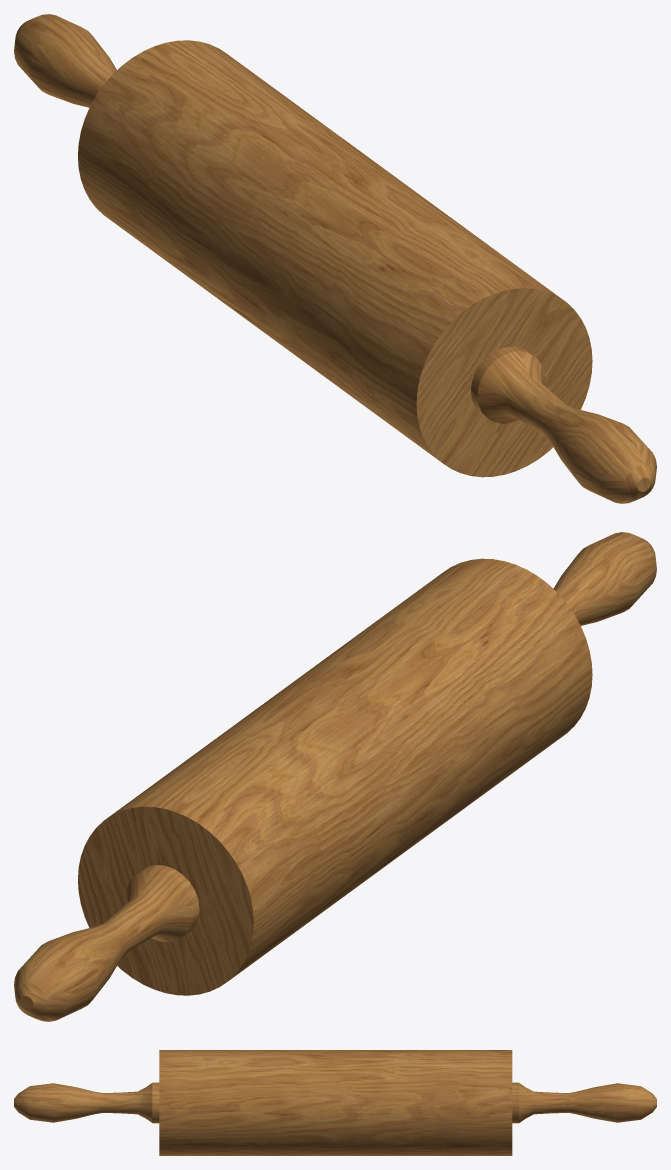
File: RollingPin.fbx
3 renders of one model, top to bottom at view 1: azimuth 30°, elevation 25°; view 2: azimuth 150°, elevation 25°; view 3: azimuth 270°, elevation 25°, orthographic. The views are drawn at different scales.
Parts seen in each view (by area): view 1: rolling_pin; view 2: rolling_pin; view 3: rolling_pin.
Part boxes in pixels (x1,y1,x2,y2): rolling_pin: [14, 14, 656, 503]; rolling_pin: [14, 532, 656, 1021]; rolling_pin: [14, 1050, 656, 1155].
Bounding box in the file's own units: 6000 × 6000 × 36452.
1 material, 1 textured.
